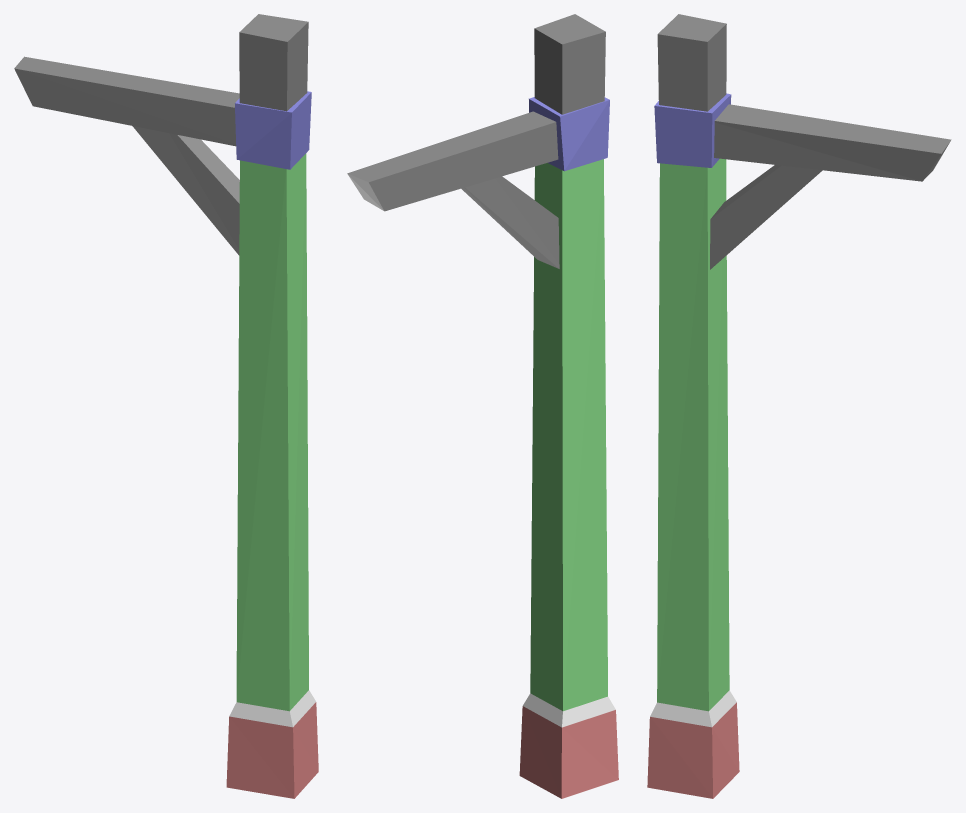
The model's file is Field_Deco_Artifact_S__world_obj35.gltf.
3 renders of one model, left to right at view 1: azimuth 90°, elevation 25°; view 2: azimuth 150°, elevation 25°; view 3: azimuth 270°, elevation 25°, orthographic.
Visible parts, largest first — view 1: world_obj35; view 2: world_obj35; view 3: world_obj35.
Part boxes in pixels (<box>): world_obj35: <box>14,14,318,798</box>; world_obj35: <box>347,14,618,798</box>; world_obj35: <box>647,14,951,798</box>.
Bounding box in the file's own units: 0.2459 × 1.28 × 0.4698.
